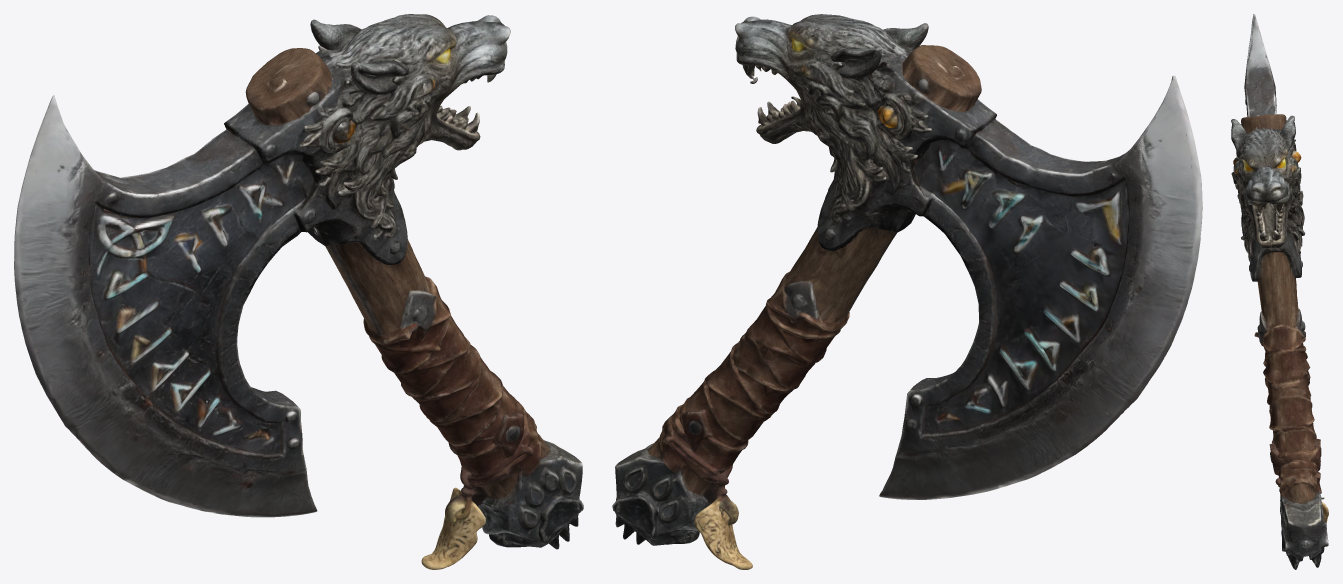
The model's file is viking_wolf_rune_axe-preview.glb.
The picture shows the model from 3 angles, left to right: view 1: azimuth 30°, elevation 25°; view 2: azimuth 150°, elevation 25°; view 3: azimuth 270°, elevation 25°; orthographic projection. The views are drawn at different scales.
Size of the model in its own units: 0.9092 by 0.884 by 0.2022.
1 material, 1 textured.
